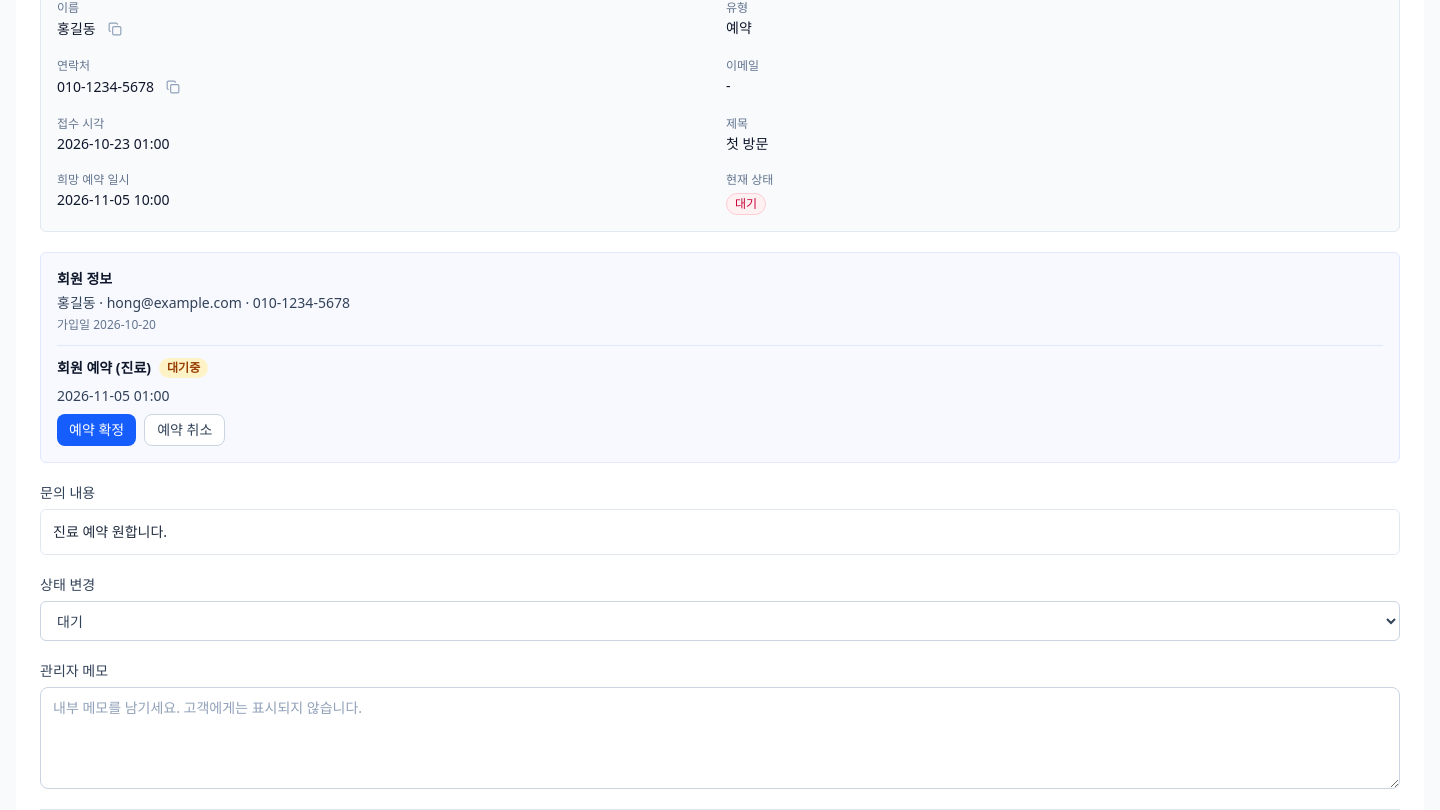
문의 상세 — 회원 정보 · 회원 예약 › 확정 → 확인 후 PATCH, 화면이 확정 상태로 바뀐다
Click the button "예약 확정". click: (97, 430)
box: [57,414,136,446]
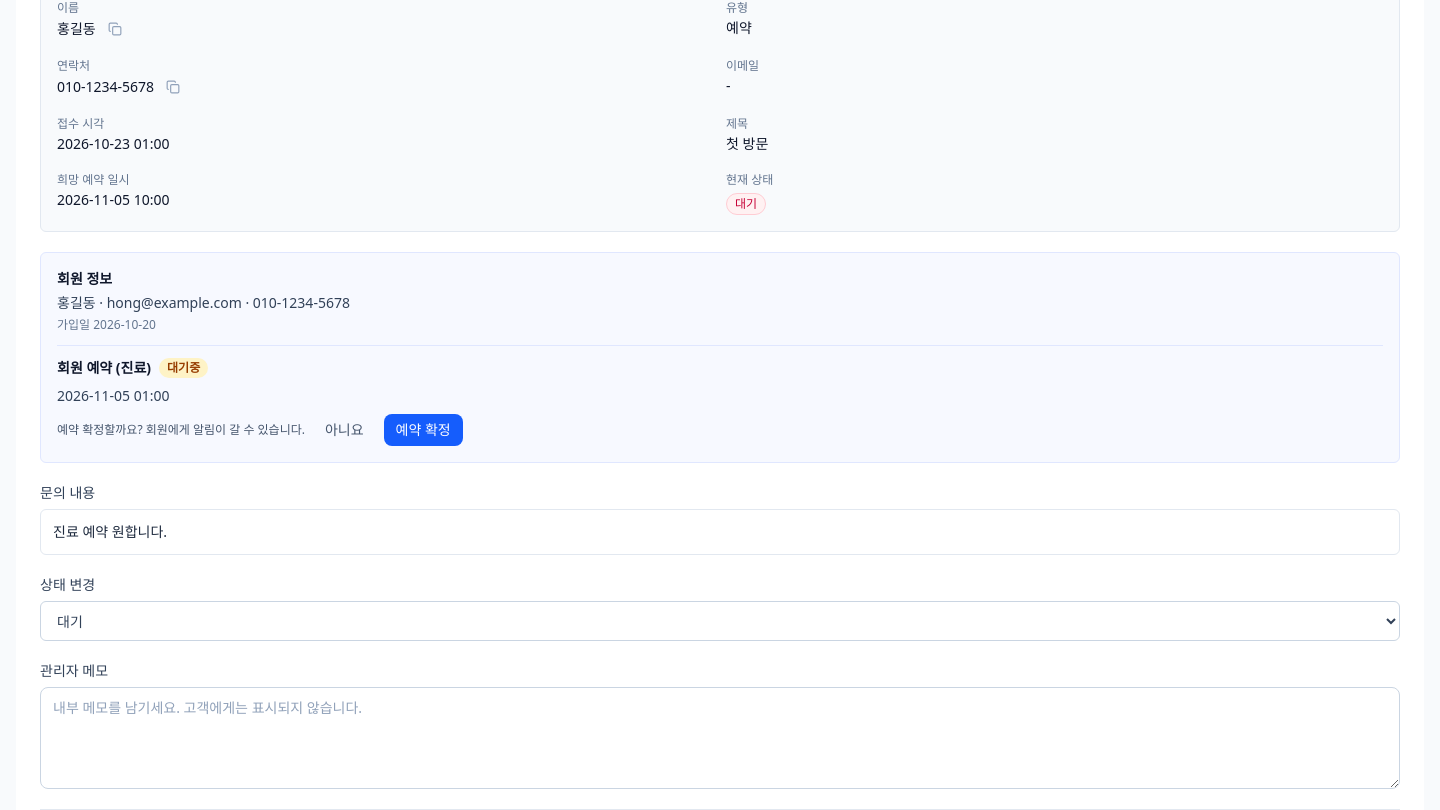
Expected: the text "회원에게 알림이 갈 수 있습니다" is shown, [104,421,305,438]
Click the button "예약 확정". click: (423, 430)
box: [384,414,463,446]
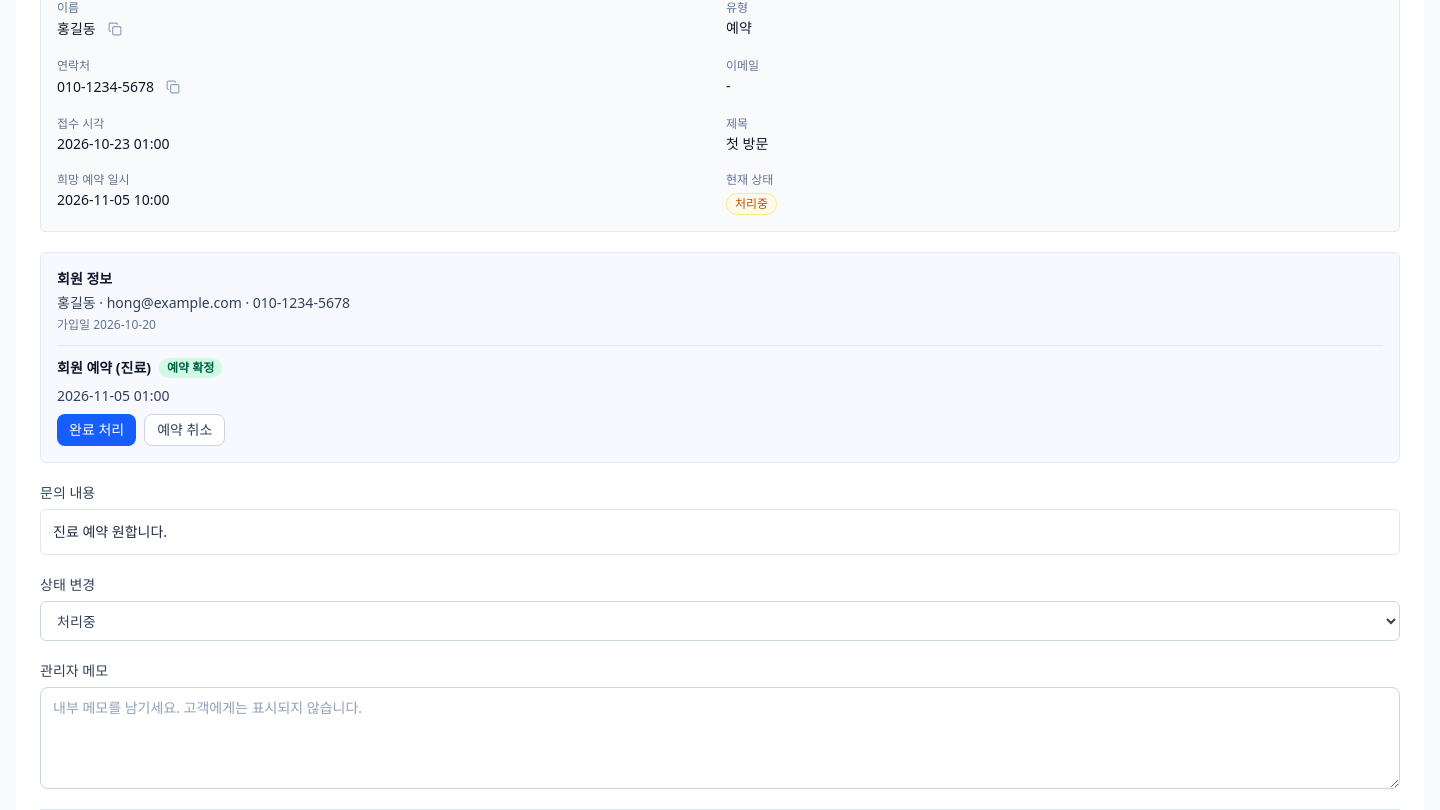
Expected: the button "완료 처리" is shown, [57,414,136,446]
Expected: the dropdown labelled "상태 변경" shows "처리중", [40,601,1400,641]
